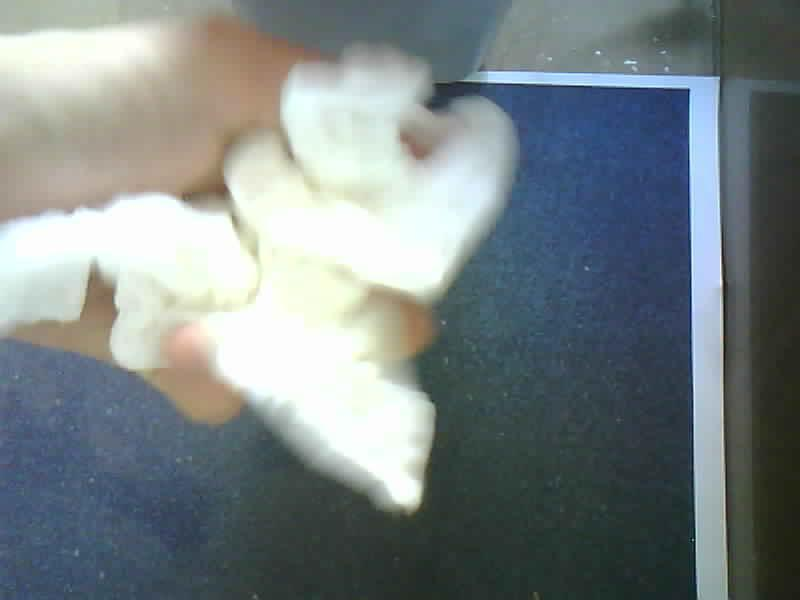paper: (1, 45, 516, 512)
